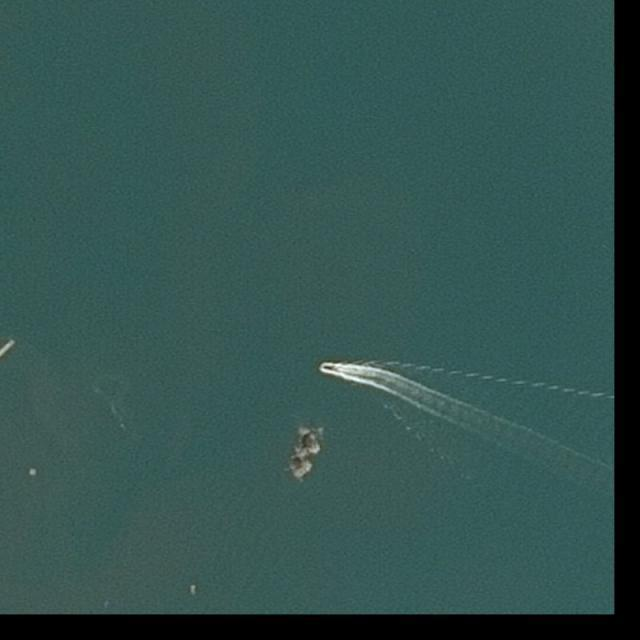ship: (321, 365, 334, 372), (28, 468, 37, 476), (190, 585, 196, 595)
